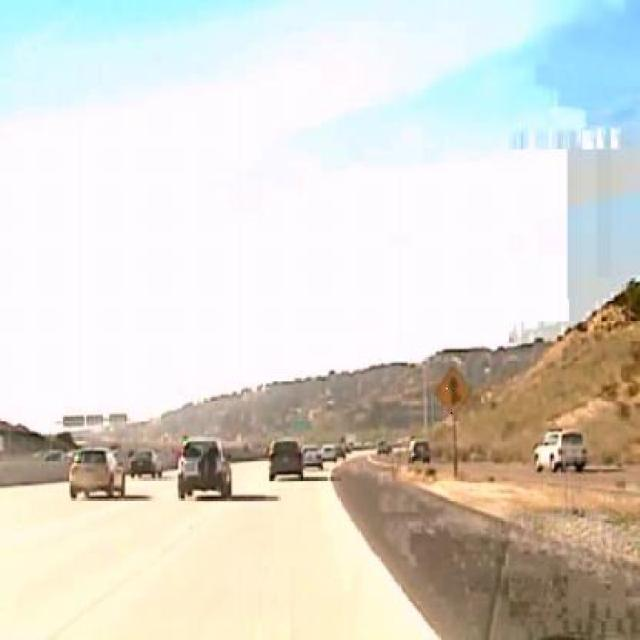merge: (436, 363, 472, 415)
